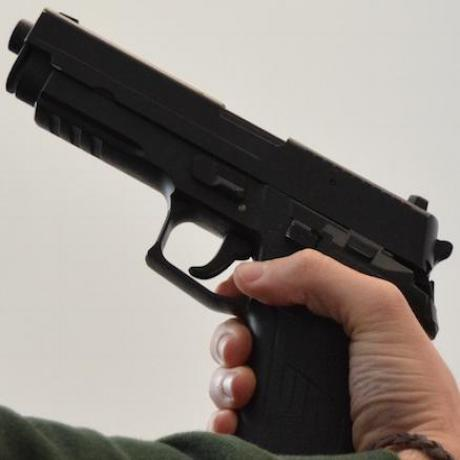weapon: (8, 6, 451, 377)
